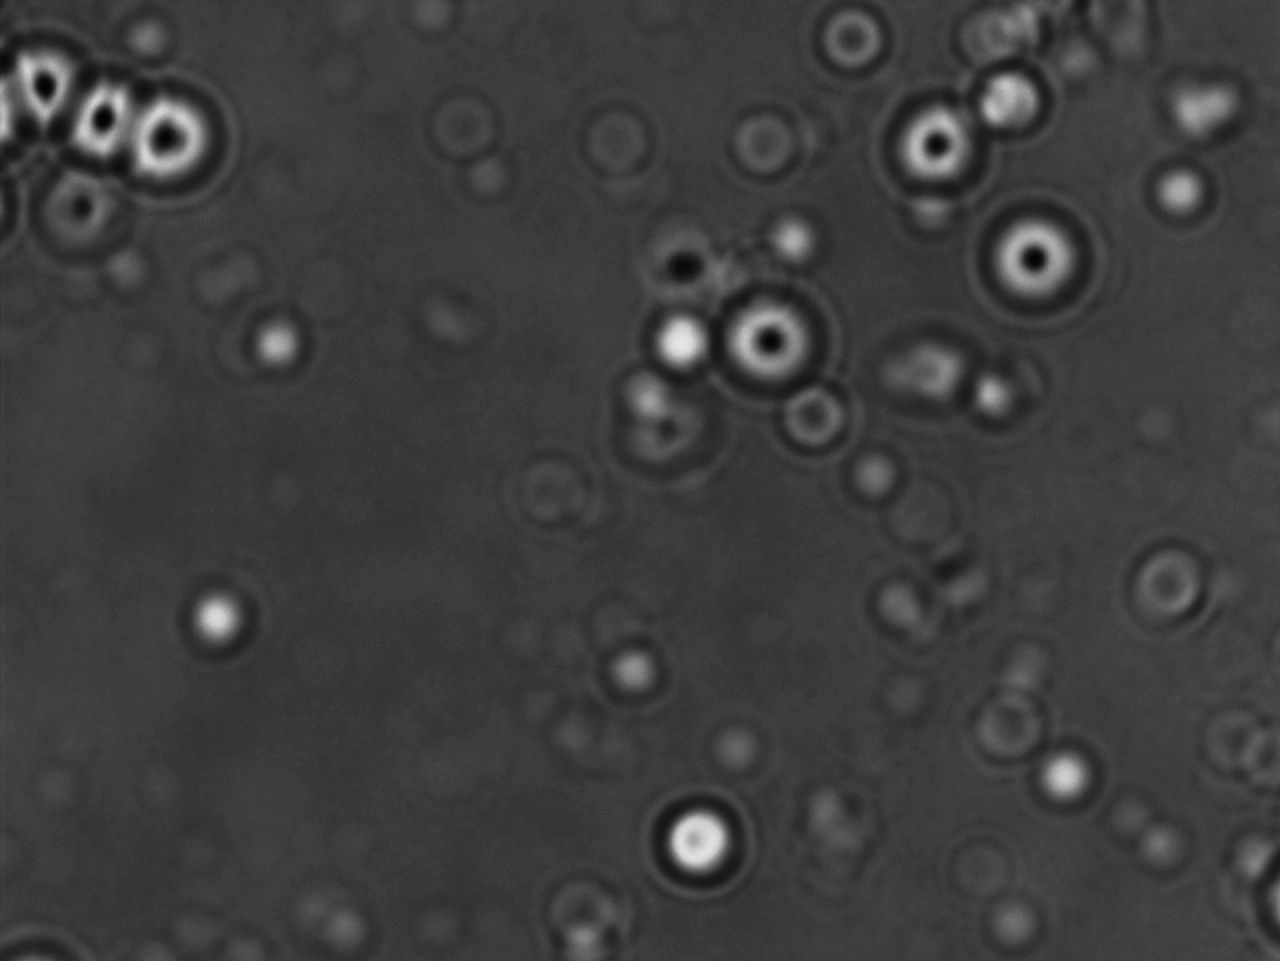depth:16: (972, 198, 1102, 321), (703, 272, 833, 391), (117, 86, 229, 202), (881, 93, 990, 208), (55, 62, 165, 173)
